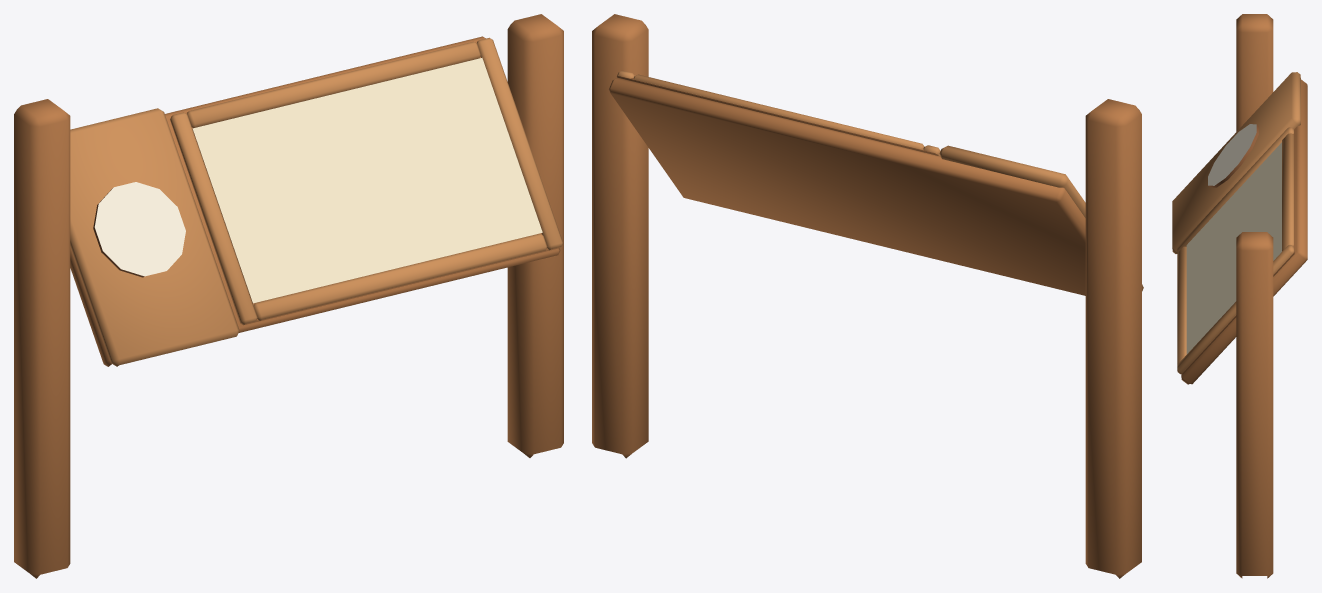
File: enclosure_sign.glb
The picture shows the model from 3 angles, left to right: view 1: azimuth 30°, elevation 25°; view 2: azimuth 150°, elevation 25°; view 3: azimuth 270°, elevation 25°; orthographic projection. The views are drawn at different scales.
Parts seen in each view (by area): view 1: enclosure_sign; view 2: enclosure_sign; view 3: enclosure_sign.
Boxes of the visible parts, left/top/right/bottom form: enclosure_sign: left=14, top=14, right=563, bottom=578; enclosure_sign: left=592, top=14, right=1143, bottom=578; enclosure_sign: left=1172, top=14, right=1307, bottom=578.
Bounding box in the file's own units: 2.36 × 1.95 × 0.657.
Materials: 1 (1 with a texture image).
